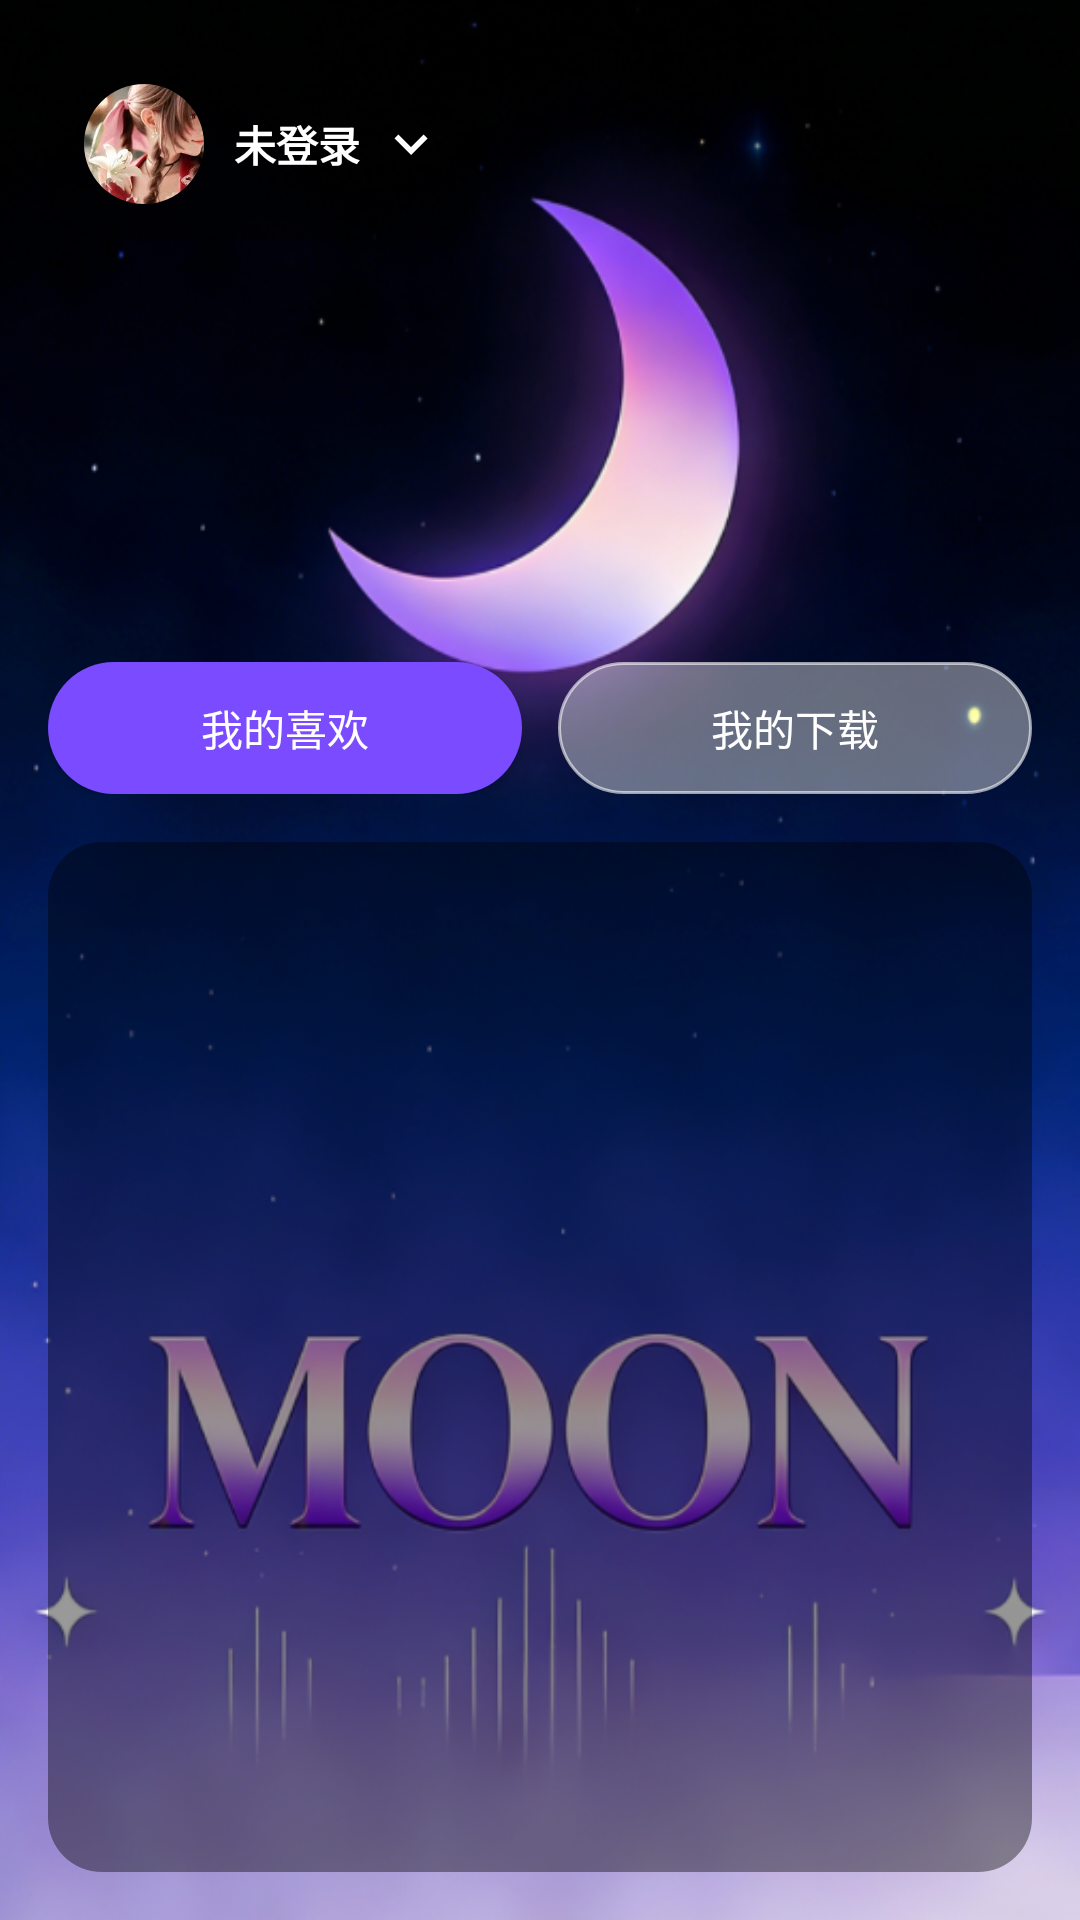

Icon click points for this 1080×1920 phone screenshot, format (x=x, y=y):
chevron down: (x=411, y=144)
